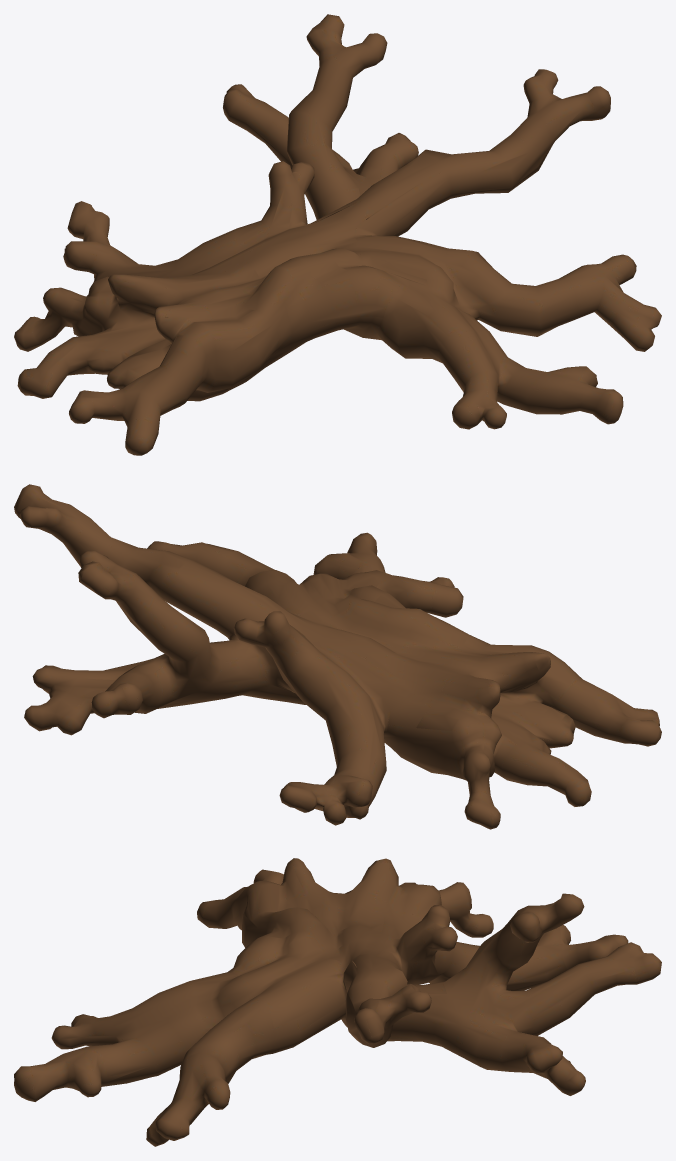
Rendered from raiz_de_arbol.glb.
3 views of the same model, one above another, from view 1: azimuth 30°, elevation 25°; view 2: azimuth 150°, elevation 25°; view 3: azimuth 270°, elevation 25° (orthographic).
Parts seen in each view (by area): view 1: raiz_de_arbol; view 2: raiz_de_arbol; view 3: raiz_de_arbol.
Part boxes in pixels (x1,y1,x2,y2): raiz_de_arbol: (14,14,661,455); raiz_de_arbol: (14,484,661,829); raiz_de_arbol: (14,858,661,1146).
Size of what is drawn, in the model's own units: 1.6 by 0.5543 by 1.54.
1 material, 1 textured.
